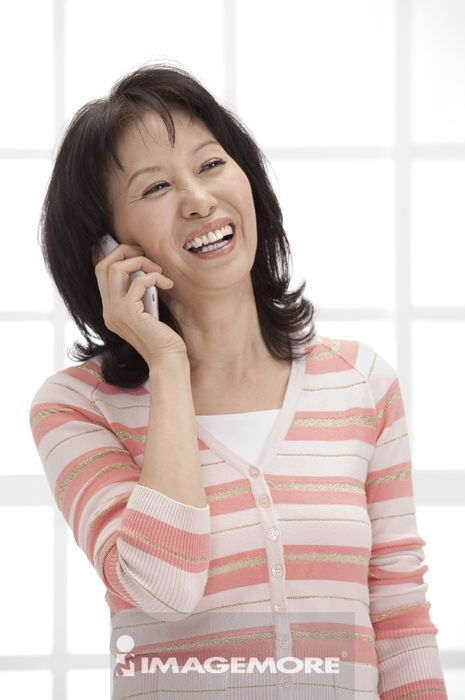phone: (102, 233, 162, 322)
talk: (94, 131, 257, 384)
